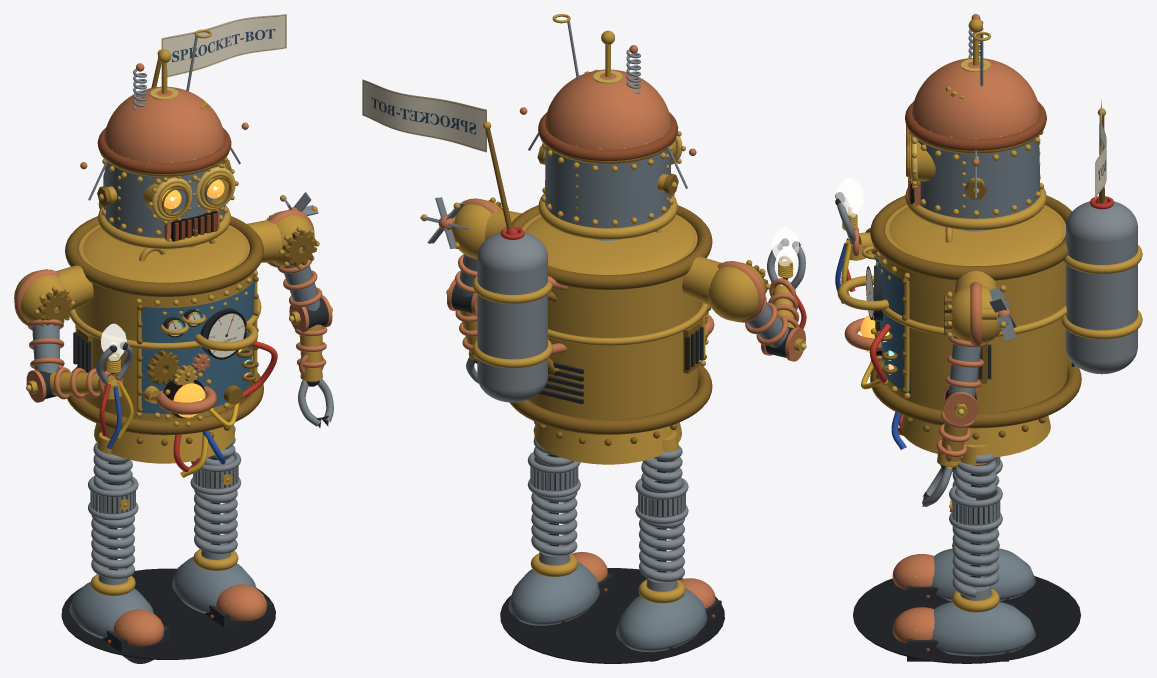
File: sprocket-bot.glb
3 views of the same model, side by side, from view 1: azimuth 30°, elevation 25°; view 2: azimuth 150°, elevation 25°; view 3: azimuth 270°, elevation 25° (orthographic). The views are drawn at different scales.
Visible parts, largest first — view 1: Torso, Head, Right_Leg, Right_Arm, Left_Leg, Left_Arm, Base, Flag_Pennant, Gauges, Pelvis, Eyes, Reactor (+4 smaller); view 2: Torso, Head, Rear_Tank, Right_Leg, Left_Leg, Right_Arm, Base, Flag_Pennant, Left_Arm, Pelvis, Antennas, Propeller (+1 smaller); view 3: Torso, Head, Left_Leg, Rear_Tank, Left_Arm, Base, Right_Leg, Pelvis, Right_Arm, Gauges, Antennas, Eyes (+4 smaller).
Boxes of the visible parts, x1,y1,x2,y2 form: Torso: (65, 216, 263, 435); Head: (80, 86, 248, 248); Right_Leg: (69, 432, 169, 663); Right_Arm: (14, 265, 133, 448); Left_Leg: (172, 425, 272, 627); Left_Arm: (247, 209, 333, 427); Base: (61, 568, 275, 659); Flag_Pennant: (161, 14, 286, 78); Gauges: (143, 308, 258, 404); Pelvis: (94, 423, 234, 463); Eyes: (143, 163, 238, 224); Reactor: (156, 372, 216, 426); Torso: (509, 205, 712, 434); Head: (519, 69, 696, 239); Rear_Tank: (472, 226, 567, 402); Right_Leg: (616, 431, 721, 661); Left_Leg: (508, 421, 613, 625); Right_Arm: (682, 227, 806, 361); Base: (500, 568, 724, 663); Flag_Pennant: (362, 79, 486, 152); Left_Arm: (446, 197, 521, 383); Pelvis: (534, 422, 681, 464); Antennas: (552, 14, 640, 94); Propeller: (420, 197, 469, 248); Torso: (870, 195, 1081, 428); Head: (905, 58, 1046, 230); Left_Leg: (892, 444, 1035, 661); Rear_Tank: (1061, 196, 1142, 374); Left_Arm: (922, 271, 1000, 506); Base: (853, 576, 1080, 663); Right_Leg: (892, 457, 1035, 601); Pelvis: (901, 415, 1050, 457); Right_Arm: (835, 178, 875, 303); Gauges: (837, 246, 897, 379); Antennas: (945, 14, 991, 98); Eyes: (906, 125, 935, 189).
Size of the model in its own units: 1.4 by 2.27 by 1.03.
26 materials, 4 textured.
